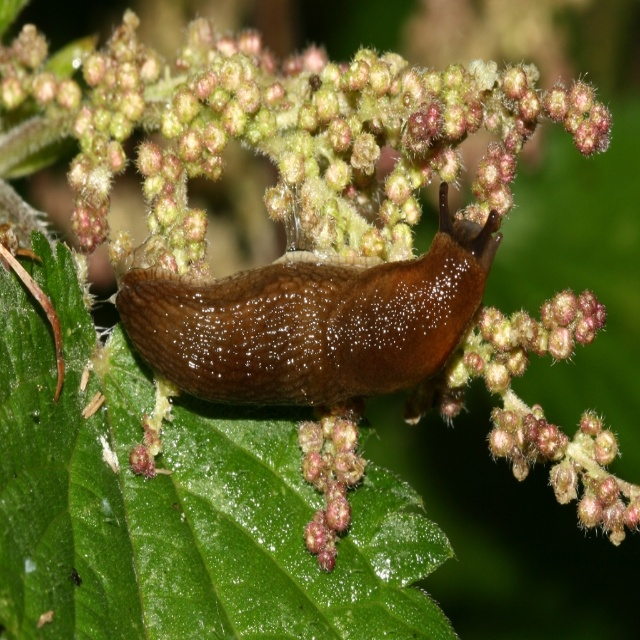Snail: (114, 178, 502, 410)
